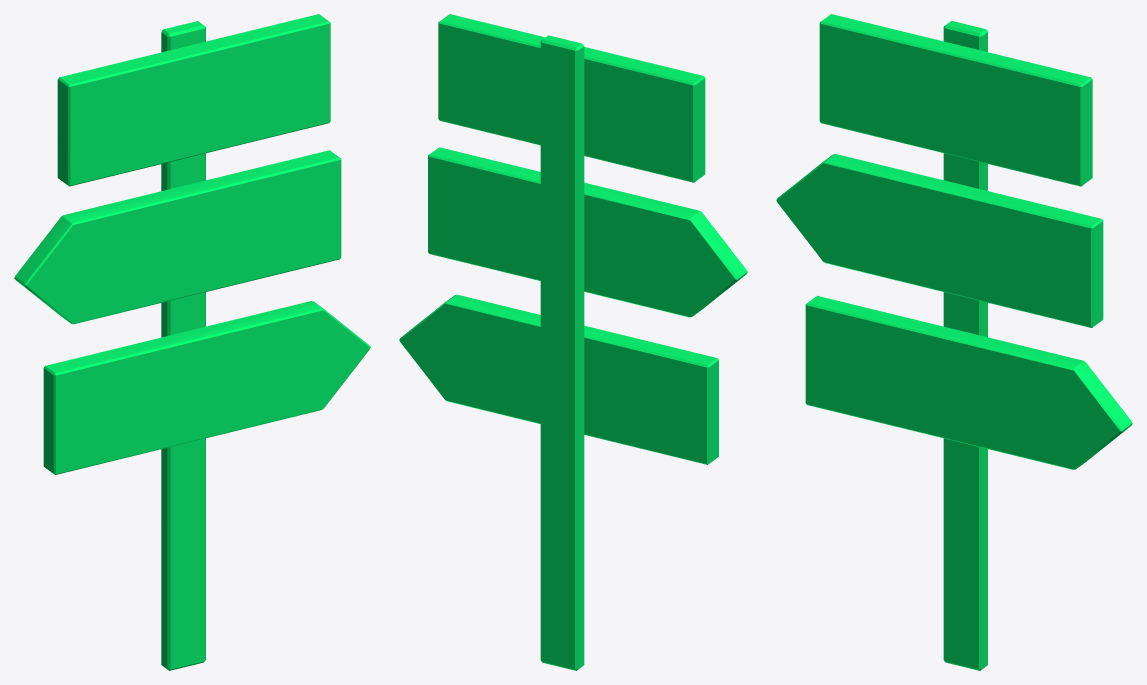
Rendered from SignPost.fbx.
The picture shows the model from 3 angles, left to right: view 1: azimuth 30°, elevation 25°; view 2: azimuth 150°, elevation 25°; view 3: azimuth 330°, elevation 25°; orthographic projection. The views are drawn at different scales.
Visible parts, largest first — view 1: Sign_board1; view 2: Sign_board1; view 3: Sign_board1.
Boxes of the visible parts, x1,y1,x2,y2 form: Sign_board1: (14,14,370,670); Sign_board1: (399,14,747,670); Sign_board1: (776,14,1132,670).
Size of the model in its own units: 7.97 by 14.03 by 0.8064.
